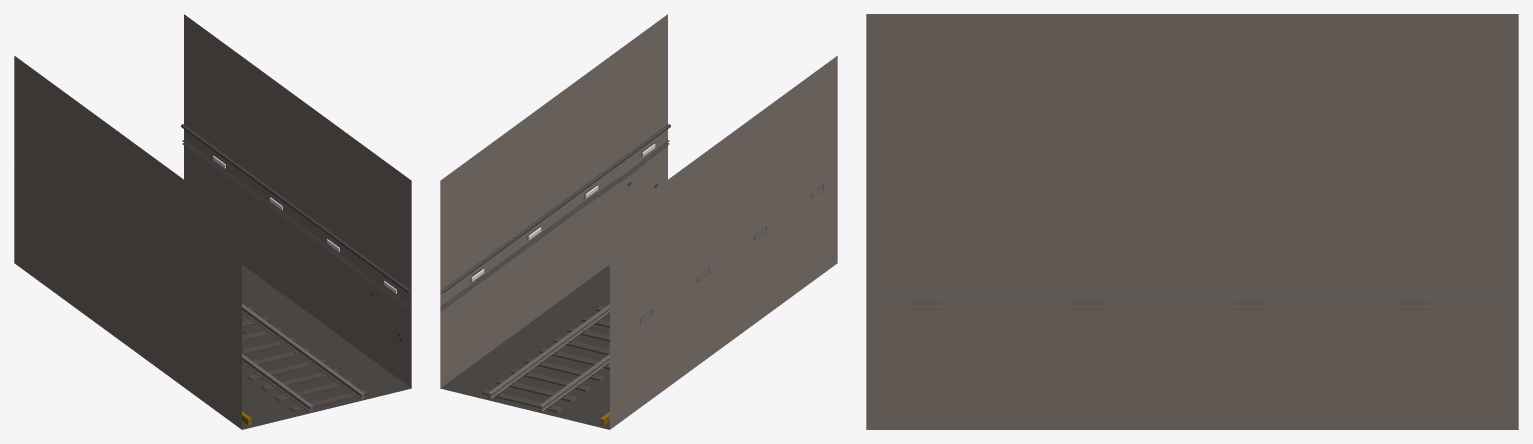
The model's file is SM_Train_Track_Underground_Single_Tunnel_Mid_02.fbx.
3 renders of one model, left to right at view 1: azimuth 30°, elevation 25°; view 2: azimuth 150°, elevation 25°; view 3: azimuth 270°, elevation 25°, orthographic. The views are drawn at different scales.
Parts seen in each view (by area): view 1: SM_Train_Track_Underground_Single_Tunnel_Mid_02; view 2: SM_Train_Track_Underground_Single_Tunnel_Mid_02; view 3: SM_Train_Track_Underground_Single_Tunnel_Mid_02.
Part boxes in pixels (left/top/right/bottom): SM_Train_Track_Underground_Single_Tunnel_Mid_02: left=14, top=14, right=411, bottom=429; SM_Train_Track_Underground_Single_Tunnel_Mid_02: left=440, top=14, right=837, bottom=429; SM_Train_Track_Underground_Single_Tunnel_Mid_02: left=866, top=14, right=1518, bottom=429.
Bounding box in the file's own units: 6.05 × 7.04 × 14.
